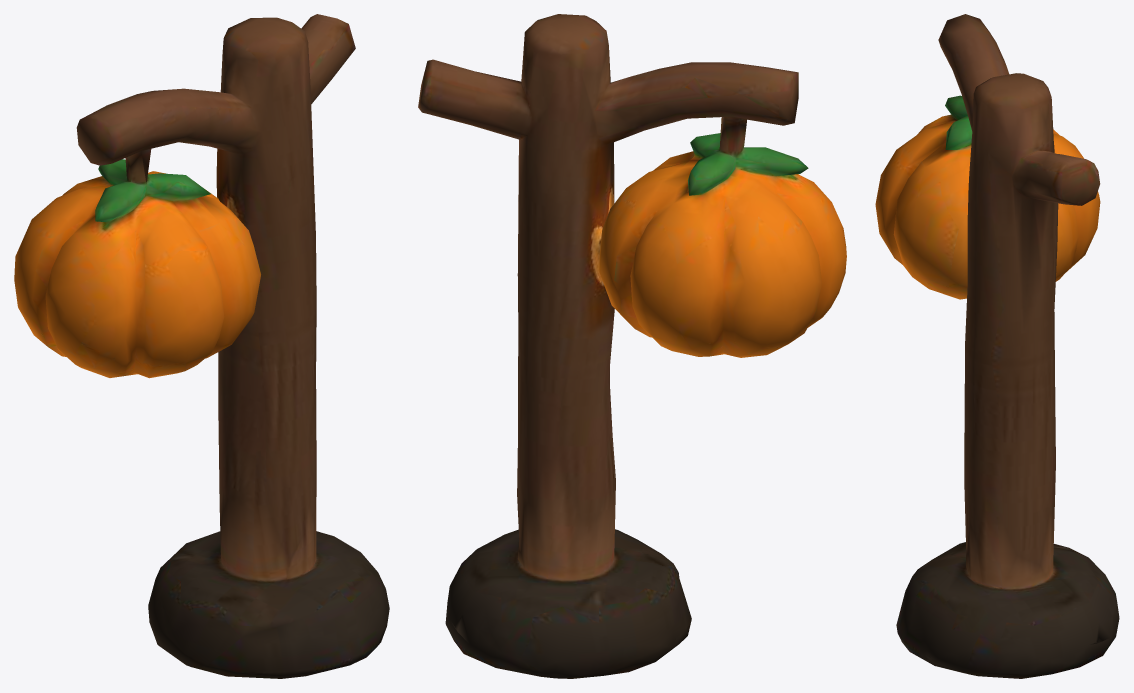
File: lamp.glb
3 views of the same model, side by side, from view 1: azimuth 30°, elevation 25°; view 2: azimuth 150°, elevation 25°; view 3: azimuth 270°, elevation 25° (orthographic). The views are drawn at different scales.
Parts seen in each view (by area): view 1: prop; view 2: prop; view 3: prop.
Part boxes in pixels (left/top/right/bottom): prop: left=14, top=14, right=389, bottom=678; prop: left=418, top=14, right=846, bottom=678; prop: left=875, top=14, right=1119, bottom=678.
Size of the model in its own units: 0.6106 by 0.9785 by 0.3906.
Materials: 1 (1 with a texture image).
